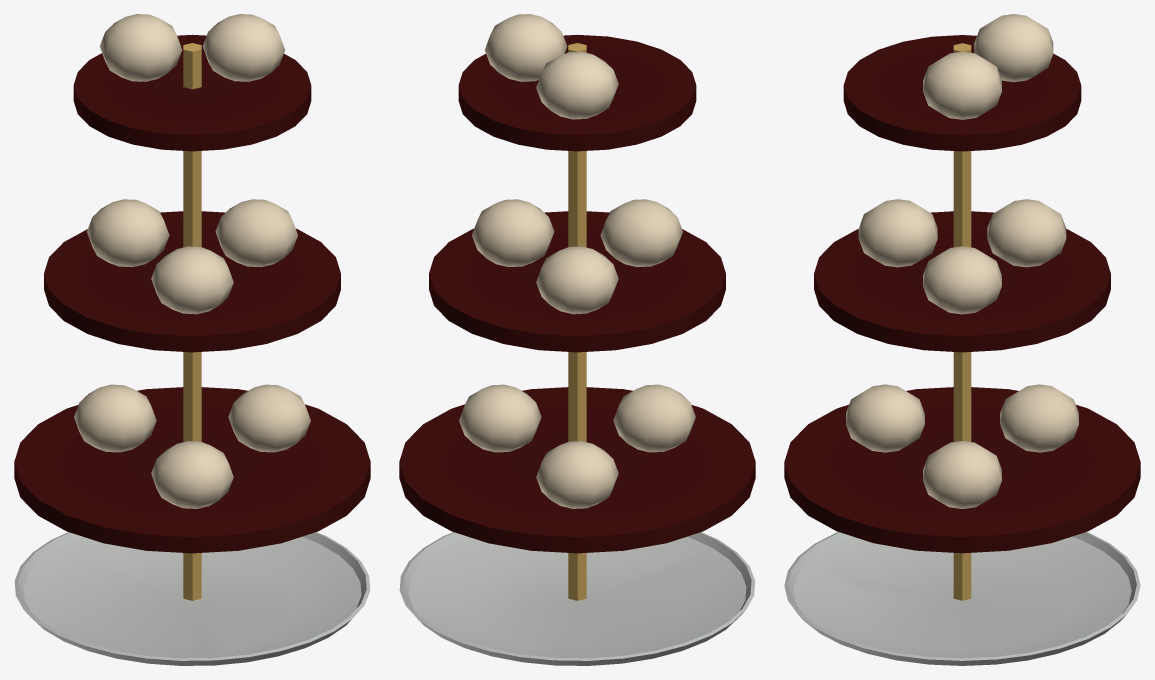
File: fs-dish-dimsum-stand.glb
The picture shows the model from 3 angles, left to right: view 1: azimuth 30°, elevation 25°; view 2: azimuth 150°, elevation 25°; view 3: azimuth 270°, elevation 25°; orthographic projection.
Parts seen in each view (by area): view 1: plate__ceramic, food__food, stand__brass; view 2: plate__ceramic, food__food, stand__brass; view 3: plate__ceramic, food__food, stand__brass.
Part boxes in pixels (x1,y1,x2,y2): plate__ceramic: (14,34,370,665); food__food: (74,14,310,508); stand__brass: (183,43,201,600); plate__ceramic: (399,34,755,665); food__food: (459,14,695,508); stand__brass: (568,43,586,600); plate__ceramic: (784,35,1140,665); food__food: (846,14,1078,508); stand__brass: (953,43,971,600).
Bounding box in the file's own units: 0.24 × 0.432 × 0.24.
